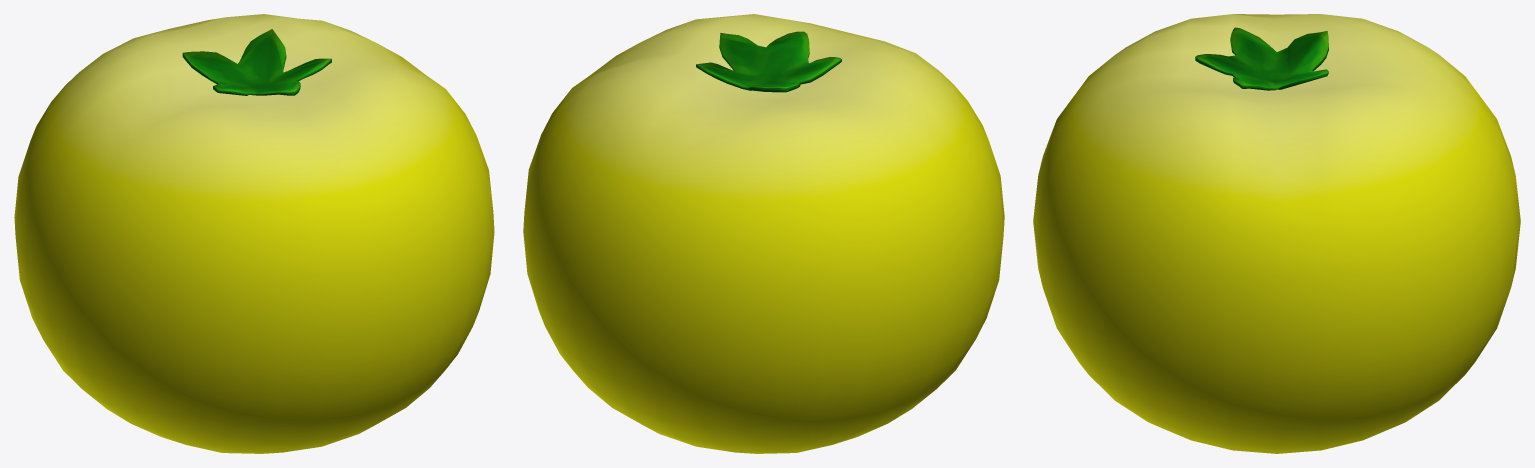
The model's file is orangeUnripe.fbx.
3 renders of one model, left to right at view 1: azimuth 30°, elevation 25°; view 2: azimuth 150°, elevation 25°; view 3: azimuth 270°, elevation 25°, orthographic.
Visible parts, largest first — view 1: orangeUnripe_LOD0, orangeUnripeStem_LOD0; view 2: orangeUnripe_LOD0, orangeUnripeStem_LOD0; view 3: orangeUnripe_LOD0, orangeUnripeStem_LOD0.
Part boxes in pixels (bbox=[...]): orangeUnripe_LOD0: bbox=[14, 14, 494, 453]; orangeUnripeStem_LOD0: bbox=[182, 29, 331, 95]; orangeUnripe_LOD0: bbox=[523, 14, 1004, 453]; orangeUnripeStem_LOD0: bbox=[696, 31, 841, 92]; orangeUnripe_LOD0: bbox=[1033, 14, 1520, 453]; orangeUnripeStem_LOD0: bbox=[1195, 27, 1328, 90].
Size of what is drawn, in the model's own units: 0.0977 by 0.0826 by 0.0977.
2 materials, 2 textured.
